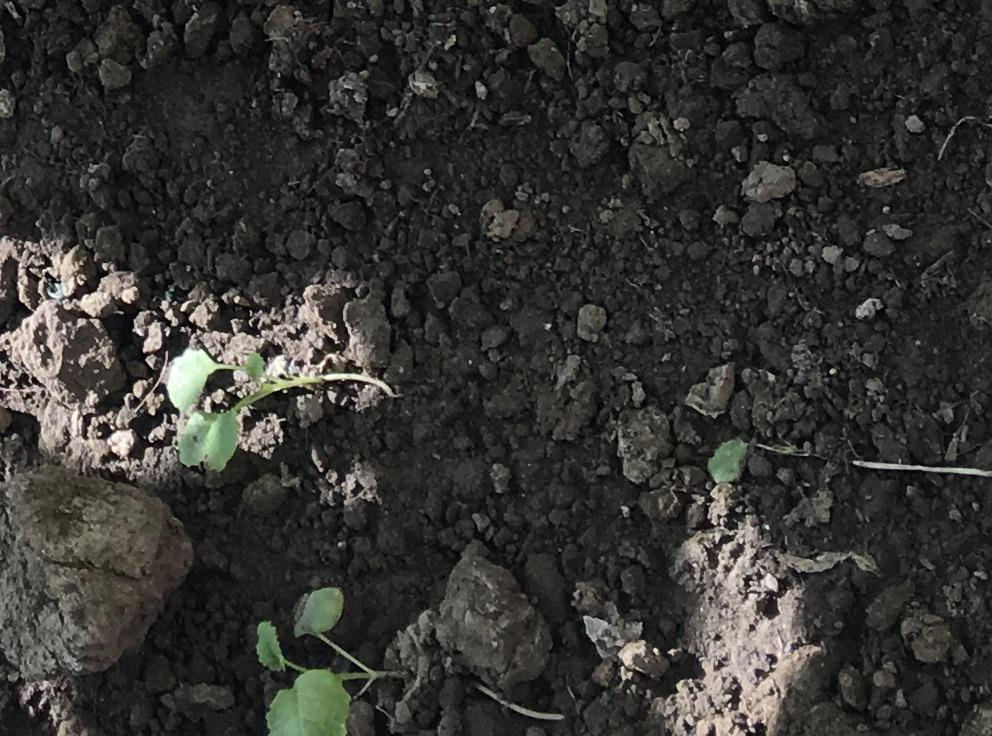block: (1, 467, 201, 683), (432, 544, 554, 692)
